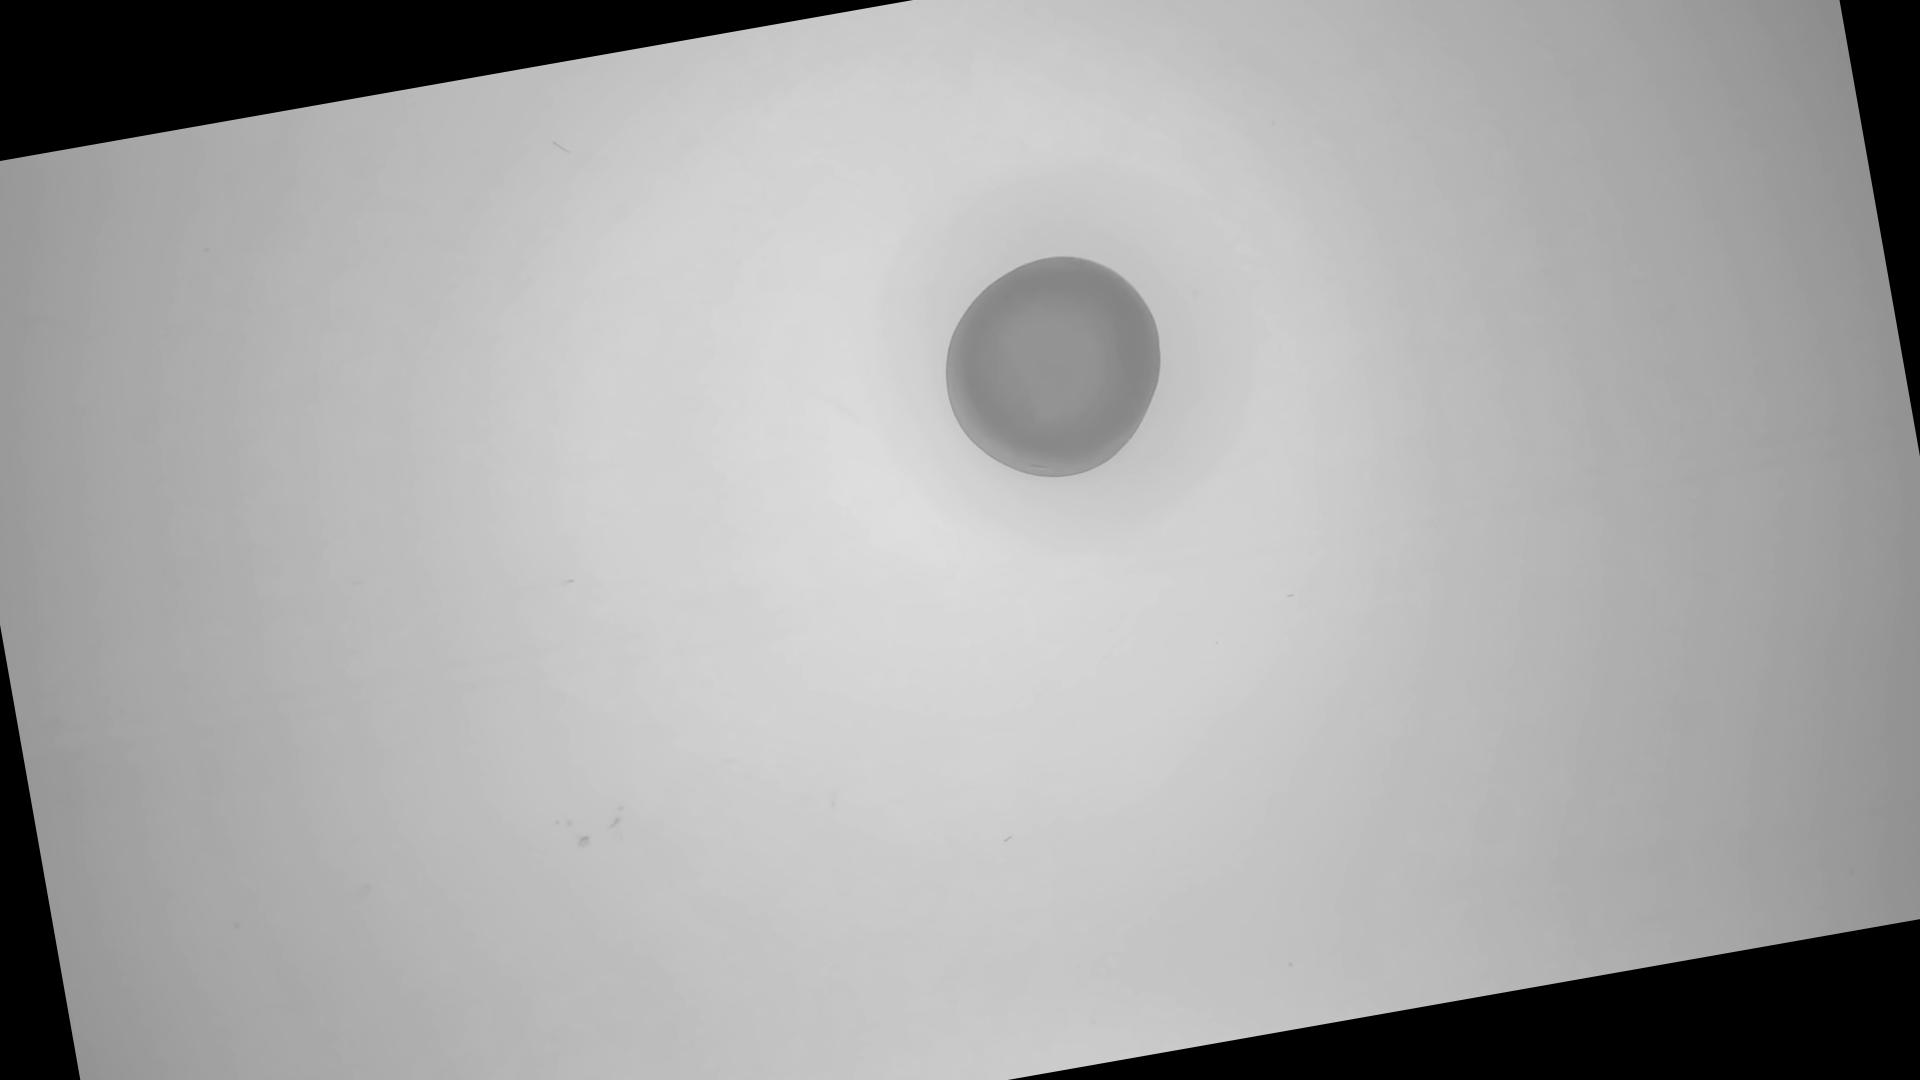normal: (924, 237, 1187, 500)
